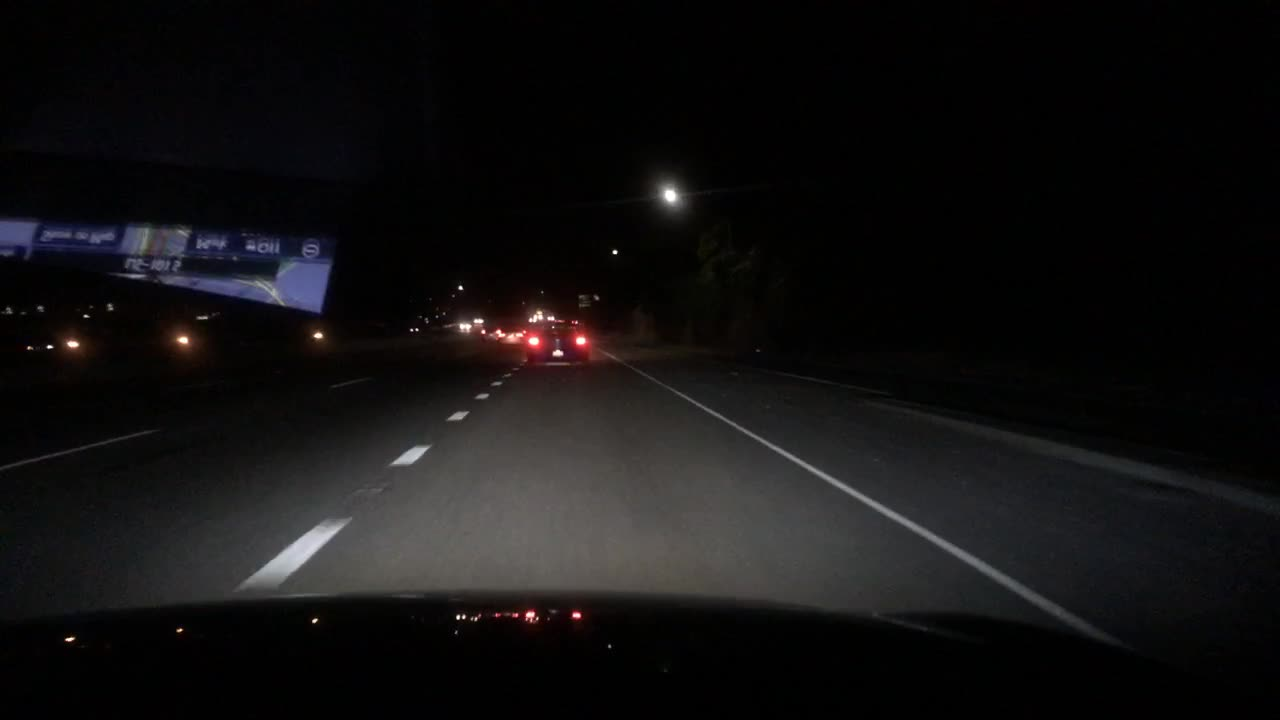car: (521, 311, 587, 377), (477, 323, 502, 343), (498, 325, 520, 346), (457, 318, 472, 330), (467, 313, 483, 324)
